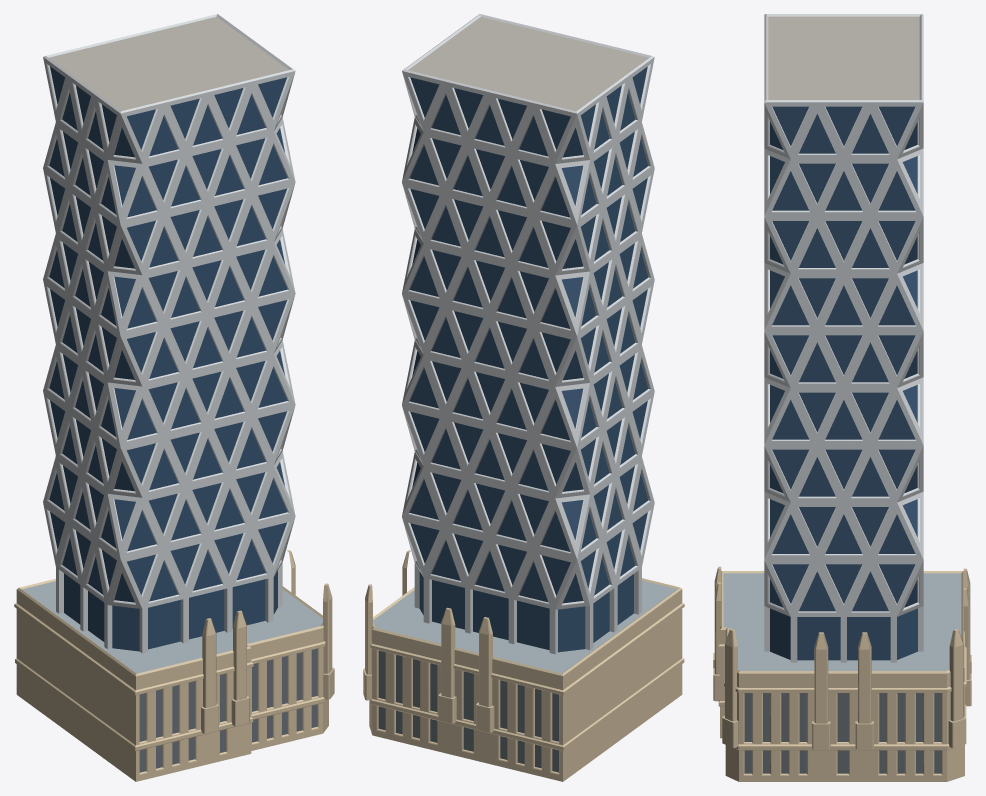
File: hearst-tower.glb
The picture shows the model from 3 angles, left to right: view 1: azimuth 30°, elevation 25°; view 2: azimuth 150°, elevation 25°; view 3: azimuth 270°, elevation 25°; orthographic projection. The views are drawn at different scales.
Visible parts, largest first — view 1: Hearst Tower; view 2: Hearst Tower; view 3: Hearst Tower.
Boxes of the visible parts, box(x1,y1,x2,y2) form: Hearst Tower: box(14, 14, 334, 781); Hearst Tower: box(363, 14, 684, 781); Hearst Tower: box(713, 14, 971, 781).
Bounding box in the file's own units: 61.3 × 182 × 63.75.
